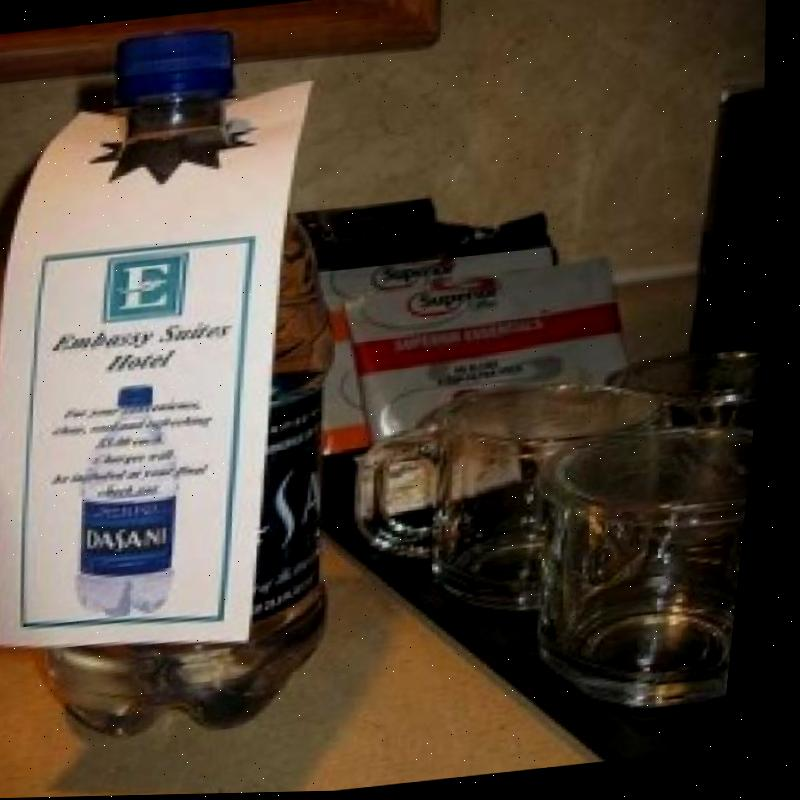botella: (0, 15, 401, 751)
